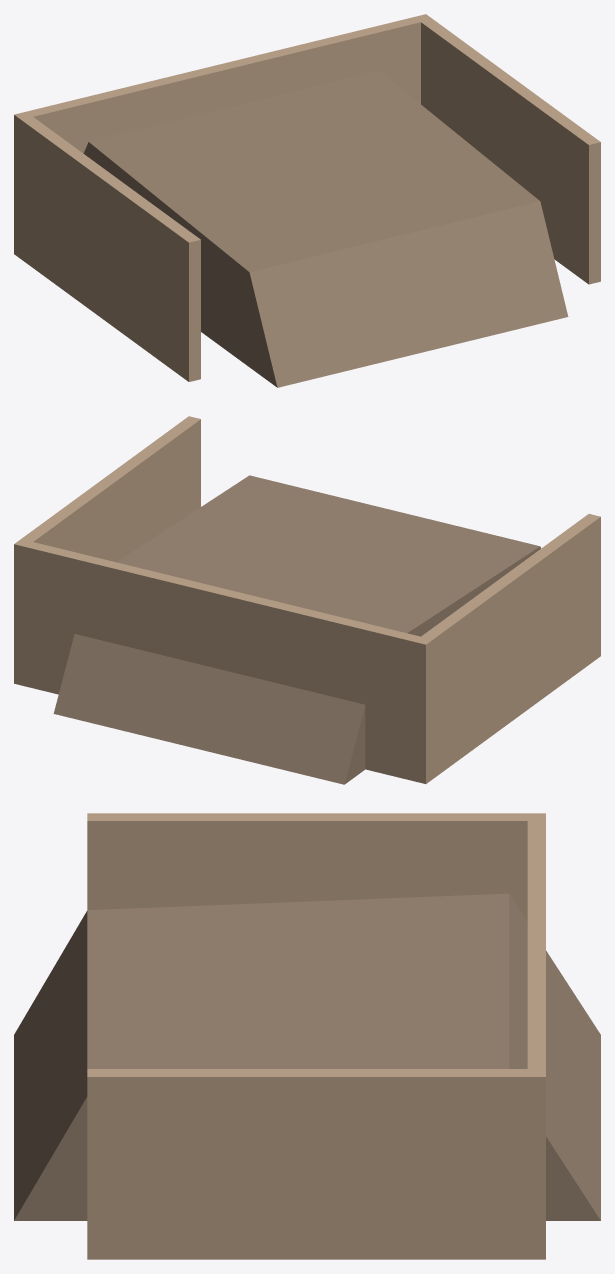
Rendered from muck-heap.glb.
3 renders of one model, top to bottom at view 1: azimuth 30°, elevation 25°; view 2: azimuth 150°, elevation 25°; view 3: azimuth 270°, elevation 25°, orthographic. The views are drawn at different scales.
Parts seen in each view (by area): view 1: muck-heap; view 2: muck-heap; view 3: muck-heap.
Boxes of the visible parts, <box> form: muck-heap: <box>14,14,600,387</box>; muck-heap: <box>14,416,600,784</box>; muck-heap: <box>14,813,600,1259</box>.
Size of the model in its own units: 3.4 by 1.1 by 3.2.
